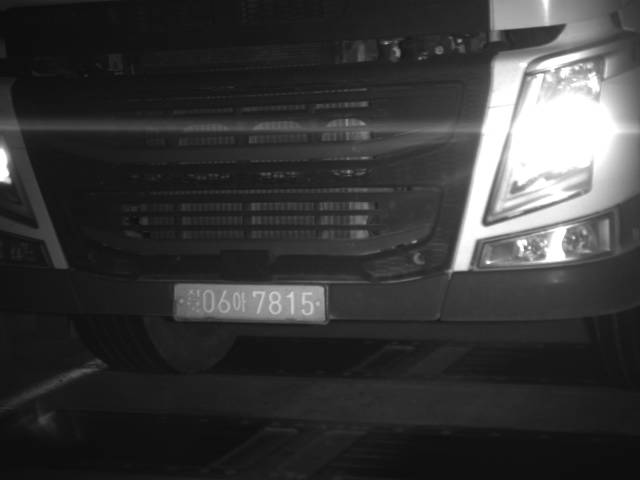car: (1, 1, 638, 376)
plate: (171, 281, 331, 323)
